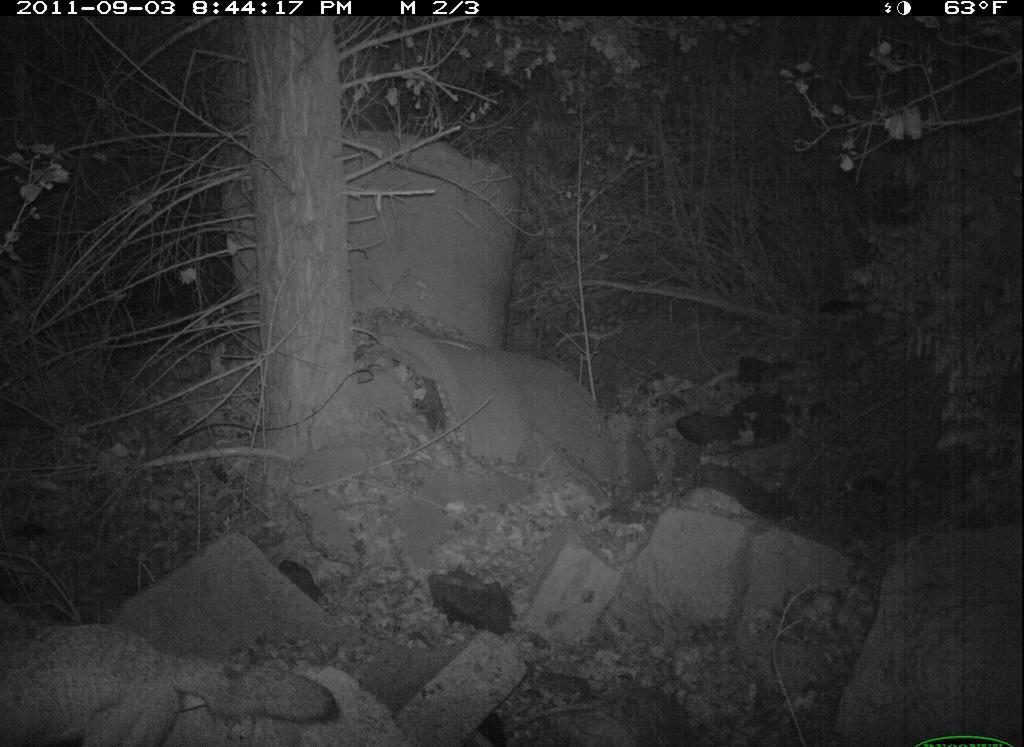coyote: (4, 591, 347, 747)
